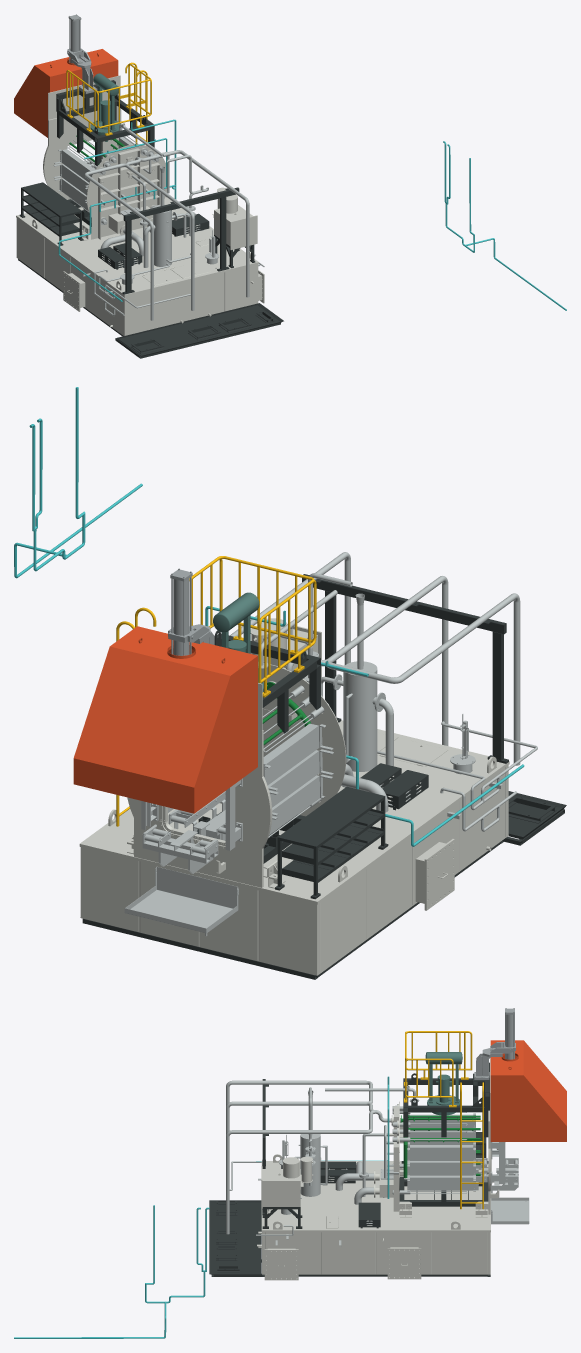
Rendered from ultrasonic_cleaner_cad.glb.
The picture shows the model from 3 angles, top to bottom: view 1: azimuth 30°, elevation 25°; view 2: azimuth 150°, elevation 25°; view 3: azimuth 270°, elevation 25°; orthographic projection. The views are drawn at different scales.
Visible parts, largest first — view 1: 035_COMPOUND, 052_SOLID, 305_COMPOUND, 003_COMPOUND, 048_COMPOUND, 153_COMPOUND, 007_COMPOUND, 019_COMPOUND, 201_COMPOUND, 285_COMPOUND, 146_COMPOUND, 303_COMPOUND (+8 smaller); view 2: 153_COMPOUND, 035_COMPOUND, 305_COMPOUND, 052_SOLID, 201_COMPOUND, 007_COMPOUND, 285_COMPOUND, 219_COMPOUND, 303_COMPOUND, 143_COMPOUND, 146_COMPOUND, 003_COMPOUND (+13 smaller); view 3: 035_COMPOUND, 052_SOLID, 153_COMPOUND, 305_COMPOUND, 303_COMPOUND, 048_COMPOUND, 207_COMPOUND, 019_COMPOUND, 031_COMPOUND, 146_COMPOUND, 222_COMPOUND, 042_COMPOUND (+15 smaller).
Boxes of the visible parts, x1,y1,x2,y2 form: 035_COMPOUND: [16, 192, 258, 335]; 052_SOLID: [16, 197, 258, 296]; 305_COMPOUND: [83, 123, 264, 320]; 003_COMPOUND: [86, 144, 167, 239]; 048_COMPOUND: [18, 259, 283, 358]; 153_COMPOUND: [14, 49, 118, 137]; 007_COMPOUND: [43, 75, 121, 199]; 019_COMPOUND: [56, 80, 154, 166]; 201_COMPOUND: [19, 182, 83, 245]; 285_COMPOUND: [122, 187, 239, 294]; 146_COMPOUND: [66, 63, 151, 135]; 303_COMPOUND: [53, 136, 133, 210]; 153_COMPOUND: [73, 626, 257, 813]; 035_COMPOUND: [80, 756, 508, 975]; 305_COMPOUND: [230, 552, 537, 831]; 052_SOLID: [79, 720, 509, 904]; 201_COMPOUND: [275, 786, 388, 899]; 007_COMPOUND: [127, 683, 272, 887]; 285_COMPOUND: [302, 574, 508, 763]; 219_COMPOUND: [124, 866, 238, 936]; 303_COMPOUND: [168, 723, 333, 838]; 143_COMPOUND: [333, 593, 385, 771]; 146_COMPOUND: [189, 556, 316, 697]; 003_COMPOUND: [220, 664, 346, 816]; 035_COMPOUND: [257, 1154, 490, 1274]; 052_SOLID: [261, 1161, 490, 1232]; 153_COMPOUND: [490, 1040, 566, 1141]; 305_COMPOUND: [226, 1080, 419, 1246]; 303_COMPOUND: [407, 1113, 475, 1191]; 048_COMPOUND: [209, 1200, 490, 1276]; 207_COMPOUND: [261, 1156, 313, 1213]; 019_COMPOUND: [403, 1062, 489, 1137]; 031_COMPOUND: [425, 1052, 462, 1115]; 146_COMPOUND: [404, 1031, 472, 1107]; 222_COMPOUND: [14, 1205, 209, 1338]; 042_COMPOUND: [264, 1248, 298, 1280].
Size of the model in its own units: 6.45 by 4.05 by 8.7.
